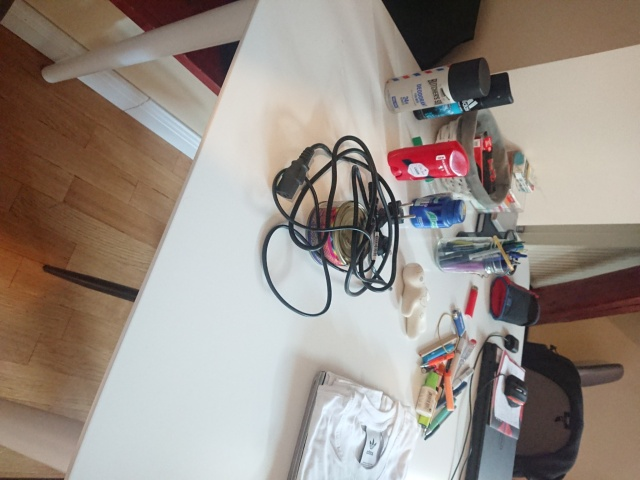Giana Tuna Salad Mexico 185g: (303, 198, 376, 268)
